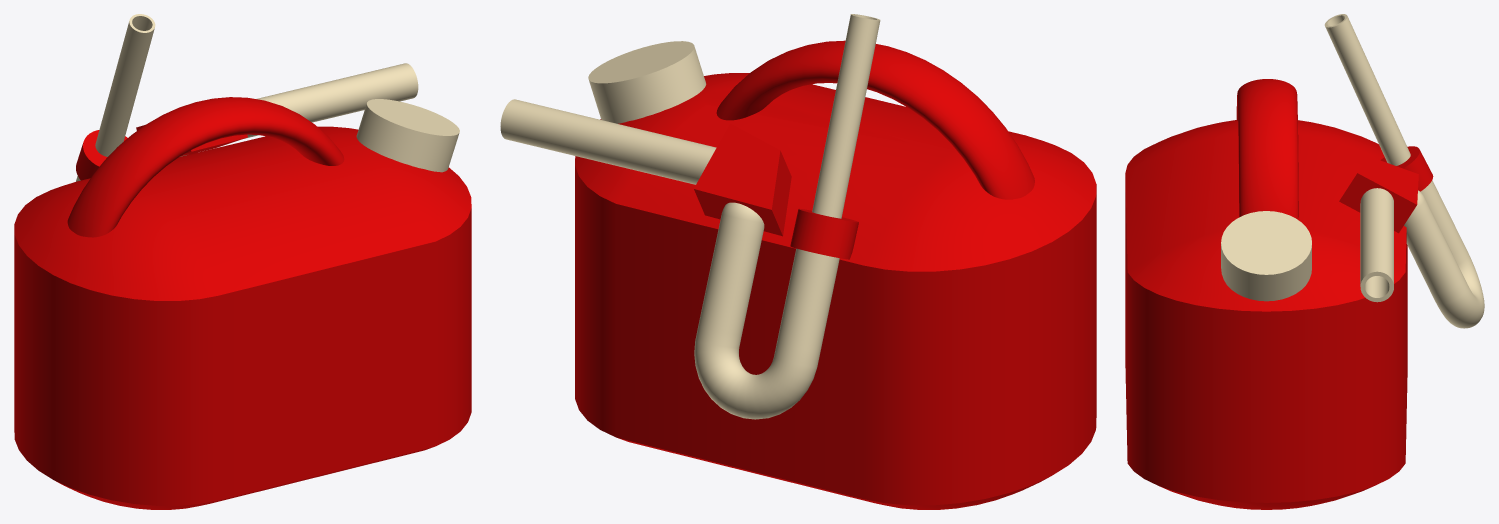
File: gasorin.fbx
3 views of the same model, side by side, from view 1: azimuth 30°, elevation 25°; view 2: azimuth 150°, elevation 25°; view 3: azimuth 270°, elevation 25° (orthographic). The views are drawn at different scales.
Parts seen in each view (by area): view 1: オイルタンク, カプセル, ふた, チューブ_2, チューブ, 円柱; view 2: オイルタンク, カプセル_3, カプセル, チューブ_2, ふた, 立方体, チューブ, 円柱; view 3: オイルタンク, カプセル, ふた, カプセル_3, チューブ, チューブ_2, 立方体, 円柱.
Part boxes in pixels (x1=…): オイルタンク: x1=14, y1=126, x2=471, y2=509; カプセル: x1=67, y1=97, x2=344, y2=237; ふた: x1=356, y1=99, x2=459, y2=172; チューブ_2: x1=244, y1=63, x2=418, y2=138; チューブ: x1=95, y1=14, x2=155, y2=156; 円柱: x1=76, y1=130, x2=127, y2=180; オイルタンク: x1=575, y1=73, x2=1096, y2=509; カプセル_3: x1=694, y1=202, x2=839, y2=419; カプセル: x1=716, y1=40, x2=1034, y2=199; チューブ_2: x1=500, y1=99, x2=716, y2=184; ふた: x1=588, y1=41, x2=706, y2=123; 立方体: x1=694, y1=123, x2=791, y2=236; チューブ: x1=812, y1=14, x2=880, y2=218; 円柱: x1=790, y1=208, x2=858, y2=259; オイルタンク: x1=1125, y1=120, x2=1407, y2=509; カプセル: x1=1236, y1=79, x2=1298, y2=218; ふた: x1=1221, y1=211, x2=1311, y2=301; カプセル_3: x1=1404, y1=180, x2=1484, y2=328; チューブ: x1=1324, y1=14, x2=1410, y2=165; チューブ_2: x1=1360, y1=188, x2=1393, y2=302; 立方体: x1=1339, y1=156, x2=1418, y2=233; 円柱: x1=1380, y1=146, x2=1433, y2=191.
Size of the model in its own units: 120 by 115 by 92.57.
